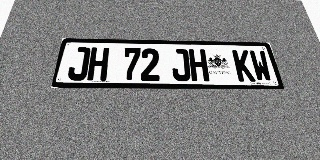2: (141, 48, 159, 81)
7: (121, 48, 141, 81)
H: (87, 47, 109, 81), (188, 49, 209, 81)
J: (66, 47, 91, 81), (171, 49, 191, 81)
K: (232, 50, 256, 82)
W: (248, 50, 273, 82)
